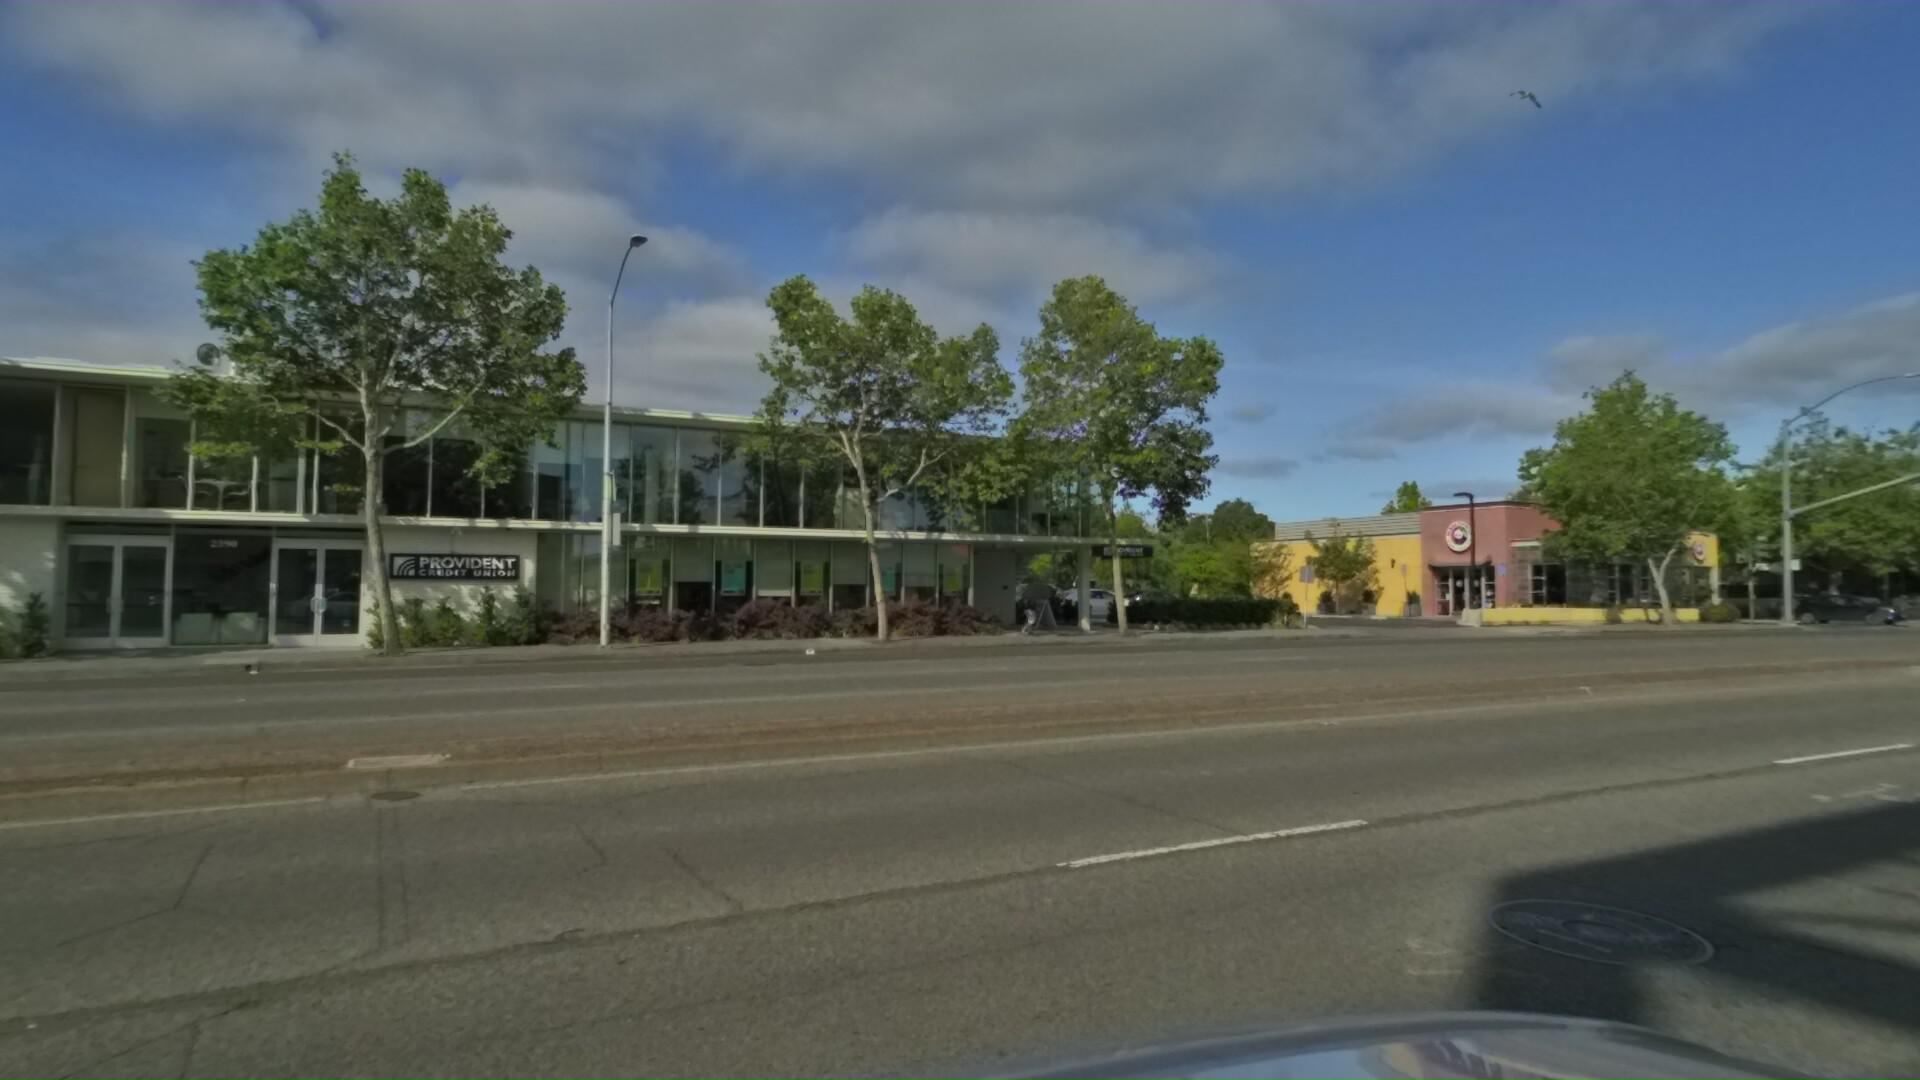car: (1782, 589, 1907, 625)
